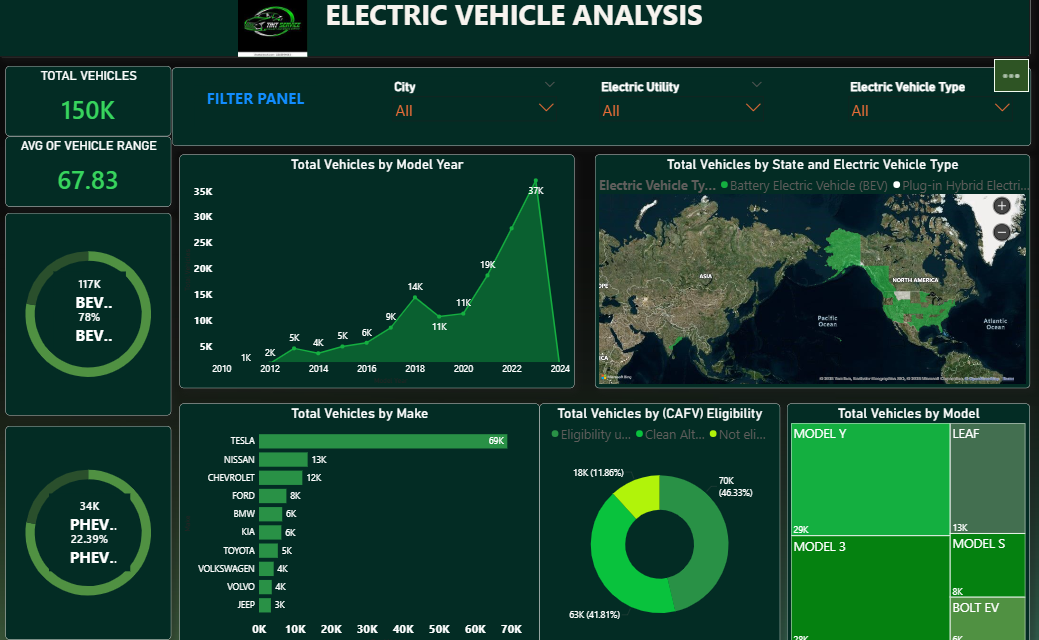

The dashboard page shown, as its layout file describes it:
{"tool":"powerbi","page":{"name":"Page 1","canvas":[2200,1400],"ordinal":0},"visuals":[{"type":"areaChart","fields":{"Y":["Electric_Vehicle_Population_Data.Total Vehicles"],"Category":["Electric_Vehicle_Population_Data.Model Year"]},"box":[382.1,344.3,832.5,492.9],"z":0},{"type":"filledMap","fields":{"Category":["Electric_Vehicle_Population_Data.State"],"Series":["Electric_Vehicle_Population_Data.Electric Vehicle Type"]},"box":[1259.4,344.3,917.5,492.9],"z":1000},{"type":"barChart","fields":{"Y":["Electric_Vehicle_Population_Data.Total Vehicles"],"Category":["Electric_Vehicle_Population_Data.Make"]},"box":[382.1,870.3,759.4,518.9],"z":2000},{"type":"donutChart","title":"Total Vehicles by (CAFV) Eligibility","fields":{"Y":["Electric_Vehicle_Population_Data.Total Vehicles"],"Category":["Electric_Vehicle_Population_Data.Clean Alternative Fuel Vehicle (CAFV) Eligibility"]},"box":[1141.5,870.3,507.1,518.9],"z":3000},{"type":"treemap","fields":{"Values":["Electric_Vehicle_Population_Data.Total Vehicles"],"Group":["Electric_Vehicle_Population_Data.Model"]},"box":[1665.1,870.3,511.8,518.9],"z":4000},{"type":"donutChart","fields":{"Category":["Electric_Vehicle_Population_Data.Electric Vehicle Type"],"Y":["Electric_Vehicle_Population_Data.Total Vehicles"]},"box":[16.4,917.2,349.5,450.4],"z":5000},{"type":"donutChart","fields":{"Category":["Electric_Vehicle_Population_Data.Electric Vehicle Type"],"Y":["Electric_Vehicle_Population_Data.Total Vehicles"]},"box":[16.4,466.8,349.5,426.9],"z":6000},{"type":"cardVisual","fields":{"Data":["Electric_Vehicle_Population_Data.BEV Vehicles","Electric_Vehicle_Population_Data.BEV %"]},"box":[117.3,591.2,152.5,164.2],"z":7000},{"type":"cardVisual","title":"TOTAL VEHICLES","fields":{"Data":["Electric_Vehicle_Population_Data.Total Vehicles"]},"box":[16.4,159.5,349.5,147.8],"z":8000},{"type":"slicer","fields":{"Values":["Electric_Vehicle_Population_Data.City"]},"box":[867.9,219.3,318.4,87.3],"z":9000},{"type":"actionButton","box":[0,0,100,40],"z":10000},{"type":"textbox","box":[365.6,160.4,1811.3,165.1],"z":11000},{"type":"textbox","box":[415.1,200.5,257.1,87.3],"z":12000},{"type":"slicer","fields":{"Values":["Electric_Vehicle_Population_Data.City"]},"box":[820.8,179.2,365.6,127.4],"z":13000},{"type":"slicer","fields":{"Values":["Electric_Vehicle_Population_Data.Electric Utility"]},"box":[1259.4,179.2,365.6,108.5],"z":14000},{"type":"slicer","fields":{"Values":["Electric_Vehicle_Population_Data.Electric Vehicle Type"]},"box":[1783,179.2,365.6,108.5],"z":15000},{"type":"textbox","box":[0,0,2176.9,139.2],"z":16000},{"type":"image","box":[507.1,0,146.2,139.2],"z":17000},{"type":"cardVisual","fields":{"Data":["Electric_Vehicle_Population_Data.PHEV Vehicles","Electric_Vehicle_Population_Data.PHEV %"]},"box":[107.9,1060.3,171.2,164.2],"z":18000},{"type":"cardVisual","title":"AVG OF VEHICLE RANGE","fields":{"Data":["Avg(Electric_Vehicle_Population_Data.Electric Range)"]},"box":[16.4,307.3,349.5,147.8],"z":18001}]}

Visuals, with their boxes in screenshot pixels (x1, y1, x2, y2):
areaChart - Electric_Vehicle_Population_Data.Total Vehicles x Electric_Vehicle_Population_Data.Model Year: {"left": 182, "top": 164, "right": 572, "bottom": 395}
filledMap - Electric_Vehicle_Population_Data.State x Electric_Vehicle_Population_Data.Electric Vehicle Type: {"left": 592, "top": 164, "right": 1022, "bottom": 395}
barChart - Electric_Vehicle_Population_Data.Total Vehicles x Electric_Vehicle_Population_Data.Make: {"left": 182, "top": 410, "right": 537, "bottom": 639}
"Total Vehicles by (CAFV) Eligibility" donutChart: {"left": 537, "top": 410, "right": 775, "bottom": 639}
treemap - Electric_Vehicle_Population_Data.Total Vehicles x Electric_Vehicle_Population_Data.Model: {"left": 782, "top": 410, "right": 1022, "bottom": 639}
donutChart - Electric_Vehicle_Population_Data.Electric Vehicle Type x Electric_Vehicle_Population_Data.Total Vehicles: {"left": 10, "top": 432, "right": 174, "bottom": 639}
donutChart - Electric_Vehicle_Population_Data.Electric Vehicle Type x Electric_Vehicle_Population_Data.Total Vehicles: {"left": 10, "top": 221, "right": 174, "bottom": 421}
cardVisual - Electric_Vehicle_Population_Data.BEV Vehicles x Electric_Vehicle_Population_Data.BEV %: {"left": 58, "top": 280, "right": 129, "bottom": 356}
"TOTAL VEHICLES" cardVisual: {"left": 10, "top": 77, "right": 174, "bottom": 147}
slicer - Electric_Vehicle_Population_Data.City: {"left": 409, "top": 105, "right": 558, "bottom": 146}
actionButton: {"left": 3, "top": 3, "right": 50, "bottom": 21}
textbox: {"left": 174, "top": 78, "right": 1022, "bottom": 155}
textbox: {"left": 197, "top": 97, "right": 318, "bottom": 137}
slicer - Electric_Vehicle_Population_Data.City: {"left": 387, "top": 87, "right": 558, "bottom": 146}
slicer - Electric_Vehicle_Population_Data.Electric Utility: {"left": 592, "top": 87, "right": 764, "bottom": 137}
slicer - Electric_Vehicle_Population_Data.Electric Vehicle Type: {"left": 838, "top": 87, "right": 1009, "bottom": 137}
textbox: {"left": 3, "top": 3, "right": 1022, "bottom": 68}
image: {"left": 240, "top": 3, "right": 309, "bottom": 68}
cardVisual - Electric_Vehicle_Population_Data.PHEV Vehicles x Electric_Vehicle_Population_Data.PHEV %: {"left": 53, "top": 499, "right": 133, "bottom": 576}
"AVG OF VEHICLE RANGE" cardVisual: {"left": 10, "top": 147, "right": 174, "bottom": 216}
